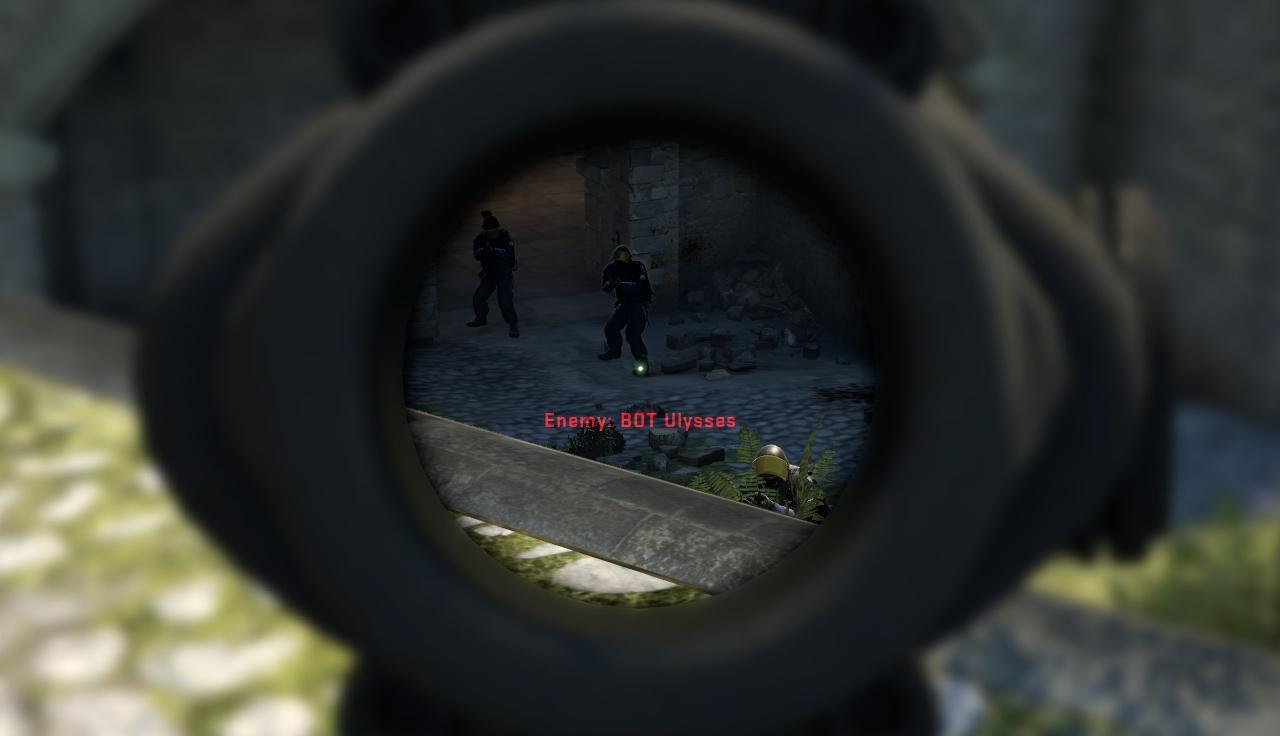ct: (603, 244, 649, 374), (473, 214, 515, 336)
cthead: (751, 444, 788, 489), (481, 216, 501, 238), (613, 246, 631, 266)
